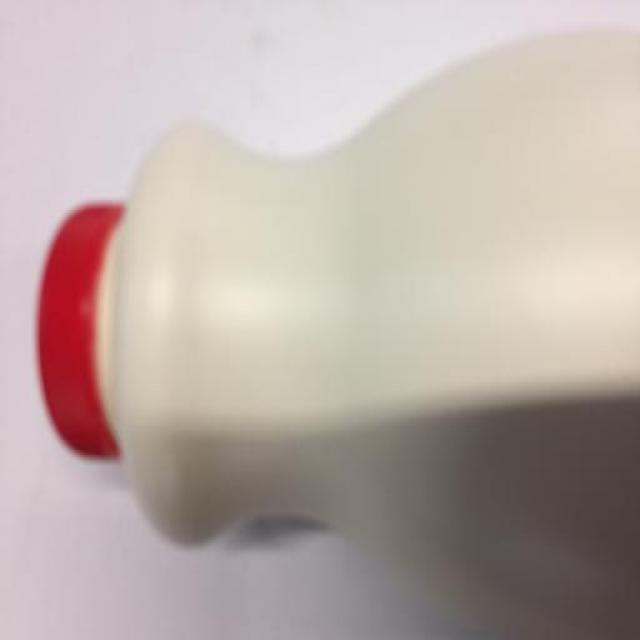plastic_bottle: (26, 55, 640, 635)
